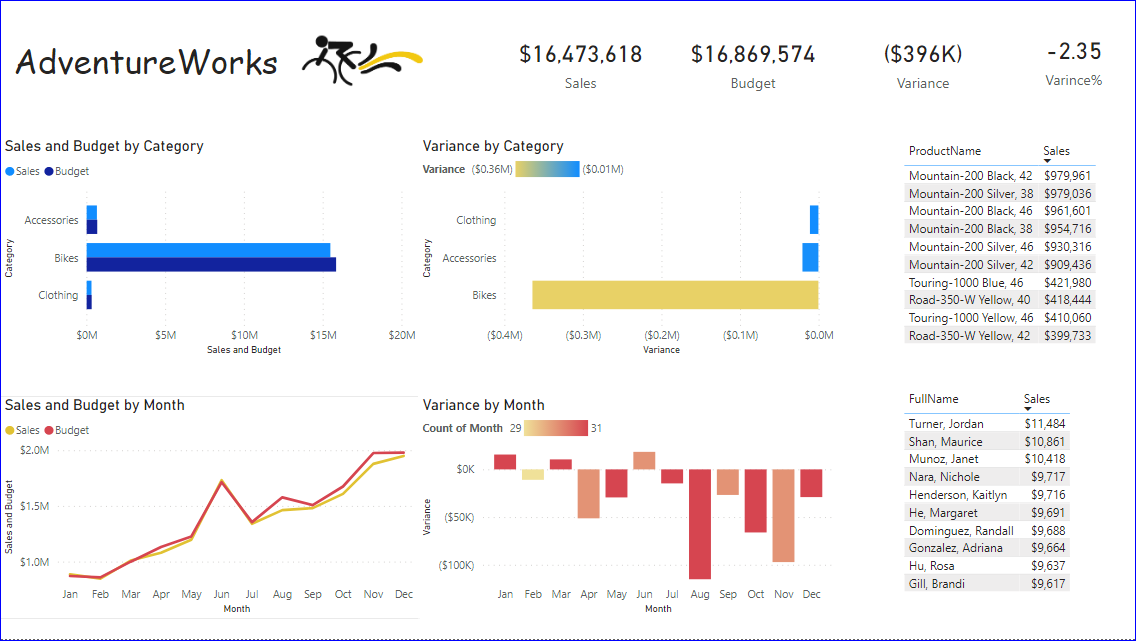

This screenshot's page, from the dashboard's own definition file:
{"tool":"powerbi","page":{"name":"Page 2","canvas":[1280,720],"ordinal":1},"visuals":[{"type":"textbox","box":[10.1,39.3,316.8,64],"z":0},{"type":"image","box":[326.9,20.2,155,102.2],"z":1000},{"type":"card","fields":{"Values":["Sales.Sales"]},"box":[553.8,14.6,196.6,114.6],"z":2000},{"type":"card","fields":{"Values":["Budget.Budget"]},"box":[750.3,14.6,191,114.6],"z":3000},{"type":"card","fields":{"Values":["Budget.Variance"]},"box":[941.3,14.6,191,114.6],"z":4000},{"type":"card","fields":{"Values":["Budget.Varince%"]},"box":[1132.2,14.6,148.3,106.7],"z":5000},{"type":"clusteredBarChart","fields":{"Y":["Sales.Sales","Budget.Budget"],"Category":["Product.Category","Product.SubCategory"]},"box":[0,156.1,471.8,250.5],"z":6000},{"type":"clusteredBarChart","fields":{"Y":["Budget.Variance"],"Category":["Product.Category","Product.SubCategory"]},"box":[469.5,156.1,471.8,250.5],"z":7000},{"type":"lineChart","fields":{"Category":["Calendar.Month"],"Y":["Sales.Sales","Budget.Budget"]},"box":[0,447.1,471.8,250.5],"z":8000},{"type":"clusteredColumnChart","fields":{"Category":["Calendar.Month"],"Y":["Budget.Variance"]},"box":[469.5,447.1,471.8,250.5],"z":9000},{"type":"tableEx","fields":{"Values":["Product.ProductName","Sales.Sales"]},"box":[1009.8,156.1,243.7,250.5],"z":10000},{"type":"tableEx","fields":{"Values":["Customer.FullName","Sales.Sales"]},"box":[1009.8,434.7,243.7,250.5],"z":11000}]}

Visuals, with their boxes in screenshot pixels (x1, y1, x2, y2), scaled from the page's 1280x720 canvas onto the 1136x641 screenshot:
textbox: [left=9, top=35, right=290, bottom=92]
image: [left=290, top=18, right=428, bottom=109]
card - Sales.Sales: [left=491, top=13, right=666, bottom=115]
card - Budget.Budget: [left=666, top=13, right=835, bottom=115]
card - Budget.Variance: [left=835, top=13, right=1005, bottom=115]
card - Budget.Varince%: [left=1005, top=13, right=1135, bottom=108]
clusteredBarChart - Sales.Sales x Budget.Budget: [left=0, top=139, right=419, bottom=362]
clusteredBarChart - Budget.Variance x Product.Category: [left=417, top=139, right=835, bottom=362]
lineChart - Calendar.Month x Sales.Sales: [left=0, top=398, right=419, bottom=621]
clusteredColumnChart - Calendar.Month x Budget.Variance: [left=417, top=398, right=835, bottom=621]
tableEx - Product.ProductName x Sales.Sales: [left=896, top=139, right=1112, bottom=362]
tableEx - Customer.FullName x Sales.Sales: [left=896, top=387, right=1112, bottom=610]
